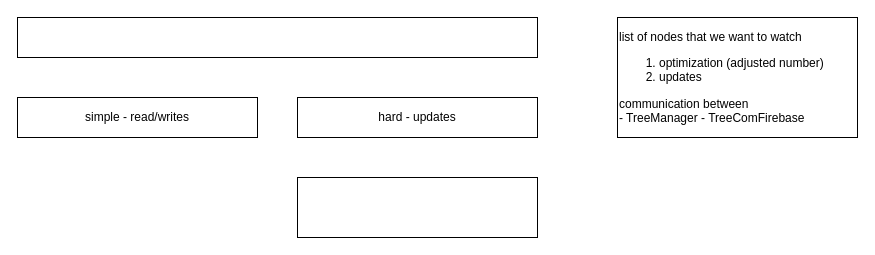
This 875x255 diagram has some shape labels left out. Each missing label, with the centre of its shape:
"communication with database" goes at pixel 277 37.
"node gets deleted - update, value = udnefined properly update state" goes at pixel 417 207.
